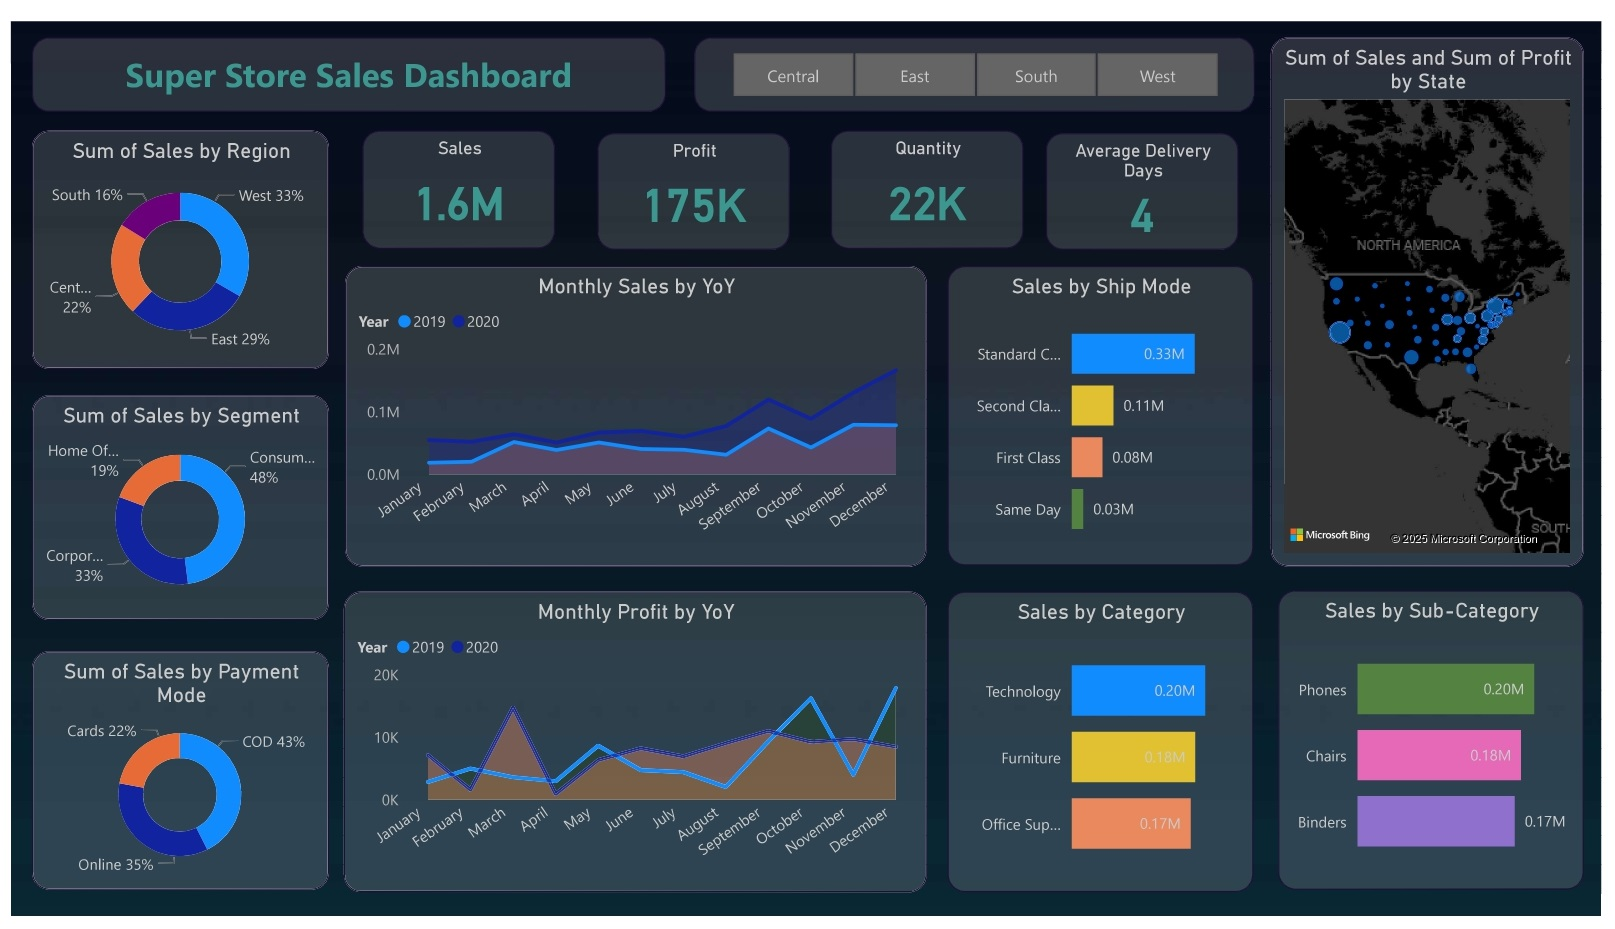

Layout of this report page (visuals, bound fields, positions):
{"tool":"powerbi","page":{"name":"Dashboard","canvas":[1280,720],"ordinal":0},"visuals":[{"type":"clusteredBarChart","title":"Sales by Category","fields":{"Category":["SuperStore_Sales_Dataset.Category"],"Y":["Sum(SuperStore_Sales_Dataset.Sales)"]},"box":[754,459.2,245.7,241.9],"z":0},{"type":"clusteredBarChart","title":"Sales by Ship Mode","fields":{"Category":["SuperStore_Sales_Dataset.Ship Mode"],"Y":["Sum(SuperStore_Sales_Dataset.Sales)"]},"box":[754,196.5,245.7,241.9],"z":1000},{"type":"areaChart","title":"Monthly Sales by YoY","fields":{"Y":["Sum(SuperStore_Sales_Dataset.Sales)"],"Category":["SuperStore_Sales_Dataset.Order Date.Variation.Date Hierarchy.Month","SuperStore_Sales_Dataset.Order Date.Variation.Date Hierarchy.Day"],"Series":["SuperStore_Sales_Dataset.Order Date.Variation.Date Hierarchy.Year"]},"box":[269.2,196.7,467.8,242.5],"z":2000},{"type":"areaChart","title":"Monthly Profit by YoY","fields":{"Category":["SuperStore_Sales_Dataset.Order Date.Variation.Date Hierarchy.Month","SuperStore_Sales_Dataset.Order Date.Variation.Date Hierarchy.Day"],"Series":["SuperStore_Sales_Dataset.Order Date.Variation.Date Hierarchy.Year"],"Y":["Sum(SuperStore_Sales_Dataset.Profit)"]},"box":[268.3,459.2,468.7,241.9],"z":3000},{"type":"map","fields":{"Category":["SuperStore_Sales_Dataset.State"],"Size":["Sum(SuperStore_Sales_Dataset.Sales)"]},"box":[1014,13.4,252.1,425.8],"z":4000},{"type":"donutChart","fields":{"Category":["SuperStore_Sales_Dataset.Payment Mode"],"Y":["Sum(SuperStore_Sales_Dataset.Sales)"]},"box":[17,506.5,238.5,192.1],"z":5000},{"type":"donutChart","fields":{"Category":["SuperStore_Sales_Dataset.Segment"],"Y":["Sum(SuperStore_Sales_Dataset.Sales)"]},"box":[17,300.5,238.5,181.2],"z":6000},{"type":"slicer","fields":{"Values":["SuperStore_Sales_Dataset.Region"]},"box":[549.9,13.4,450.6,59.2],"z":7000},{"type":"textbox","box":[17.2,13.4,509.8,59.2],"z":8000},{"type":"card","title":"Sales","fields":{"Values":["Sum(SuperStore_Sales_Dataset.Sales)"]},"box":[283.5,88.3,154.9,94.5],"z":9000},{"type":"card","title":"Quantity","fields":{"Values":["Sum(SuperStore_Sales_Dataset.Quantity)"]},"box":[659.9,88.3,154.9,94.5],"z":10000},{"type":"card","title":"Profit","fields":{"Values":["Sum(SuperStore_Sales_Dataset.Profit)"]},"box":[472.5,89.8,154.9,94.5],"z":11000},{"type":"card","title":"Average Delivery Days","fields":{"Values":["Avg(SuperStore_Sales_Dataset.AvgDelivery)"]},"box":[833.4,89.8,154.9,94.5],"z":12000},{"type":"clusteredBarChart","title":"Sales by Sub-Category","fields":{"Category":["SuperStore_Sales_Dataset.Sub-Category"],"Y":["Sum(SuperStore_Sales_Dataset.Sales)"]},"box":[1019.7,458.3,246.3,240.6],"z":13000},{"type":"donutChart","fields":{"Category":["SuperStore_Sales_Dataset.Region"],"Y":["Sum(SuperStore_Sales_Dataset.Sales)"]},"box":[17,88.3,238.5,192.1],"z":14000}]}

Visuals, with their boxes in screenshot pixels (x1, y1, x2, y2), scaled from the page's 1280x720 canvas onto the 1615x929 screenshot:
"Sales by Category" clusteredBarChart: left=951, top=592, right=1261, bottom=905
"Sales by Ship Mode" clusteredBarChart: left=951, top=254, right=1261, bottom=566
"Monthly Sales by YoY" areaChart: left=340, top=254, right=930, bottom=567
"Monthly Profit by YoY" areaChart: left=339, top=592, right=930, bottom=905
map - SuperStore_Sales_Dataset.State x Sum(SuperStore_Sales_Dataset.Sales): left=1279, top=17, right=1597, bottom=567
donutChart - SuperStore_Sales_Dataset.Payment Mode x Sum(SuperStore_Sales_Dataset.Sales): left=21, top=654, right=322, bottom=901
donutChart - SuperStore_Sales_Dataset.Segment x Sum(SuperStore_Sales_Dataset.Sales): left=21, top=388, right=322, bottom=622
slicer - SuperStore_Sales_Dataset.Region: left=694, top=17, right=1262, bottom=94
textbox: left=22, top=17, right=665, bottom=94
"Sales" card: left=358, top=114, right=553, bottom=236
"Quantity" card: left=833, top=114, right=1028, bottom=236
"Profit" card: left=596, top=116, right=792, bottom=238
"Average Delivery Days" card: left=1052, top=116, right=1247, bottom=238
"Sales by Sub-Category" clusteredBarChart: left=1287, top=591, right=1597, bottom=902
donutChart - SuperStore_Sales_Dataset.Region x Sum(SuperStore_Sales_Dataset.Sales): left=21, top=114, right=322, bottom=362
